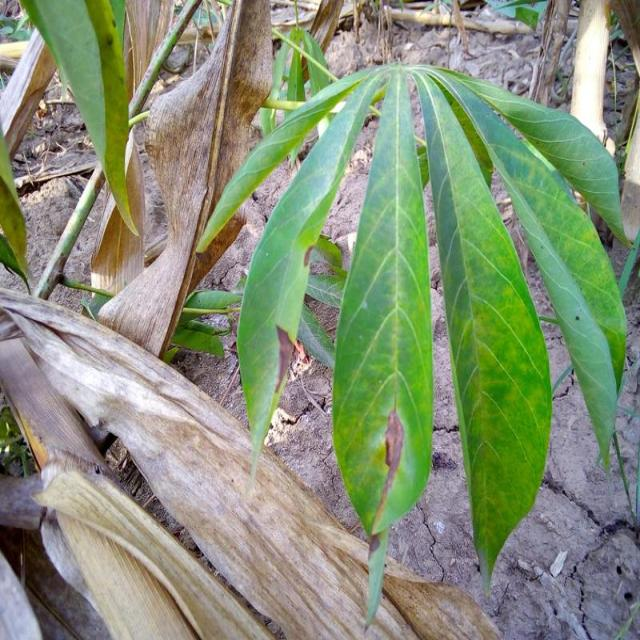cassava leaf: (199, 59, 630, 616), (412, 64, 554, 596), (235, 65, 390, 496), (332, 66, 434, 627), (19, 0, 145, 238)
